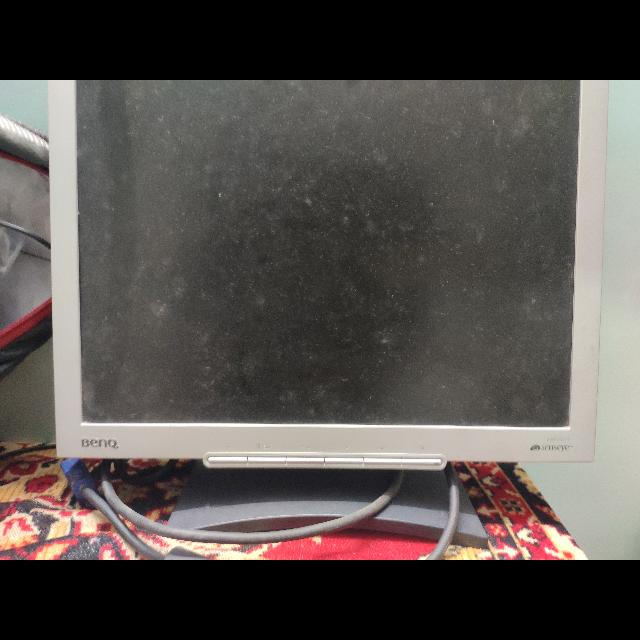Flat-Panel-Monitor: (40, 81, 614, 553)
